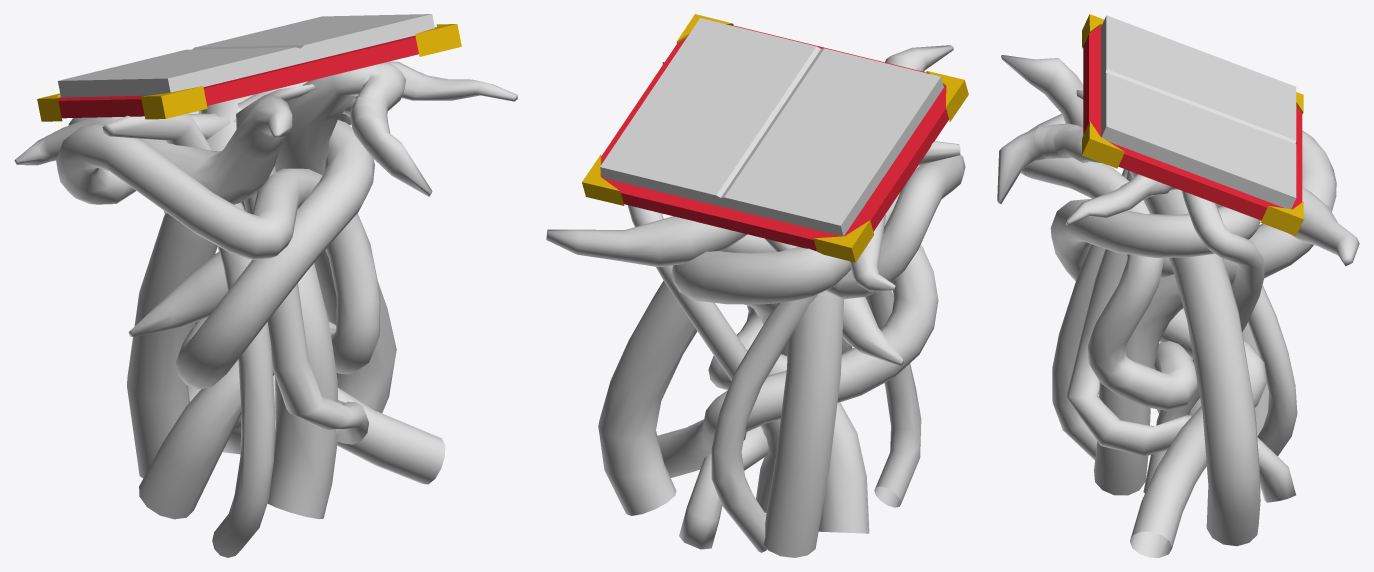
The model's file is enchant.fbx.
The picture shows the model from 3 angles, left to right: view 1: azimuth 30°, elevation 25°; view 2: azimuth 150°, elevation 25°; view 3: azimuth 270°, elevation 25°; orthographic projection. The views are drawn at different scales.
Parts seen in each view (by area): view 1: BézierCurve.003, Cube.008, Cube.005, Cube.007, Cube.006; view 2: BézierCurve.003, Cube.008, Cube.005, Cube.007, Cube.006; view 3: BézierCurve.003, Cube.008, Cube.005, Cube.006, Cube.007.
Boxes of the visible parts, x1,y1,x2,y2 form: BézierCurve.003: [14, 61, 517, 557]; Cube.008: [58, 14, 434, 97]; Cube.005: [58, 27, 436, 118]; Cube.007: [37, 86, 207, 121]; Cube.006: [415, 24, 461, 56]; BézierCurve.003: [546, 45, 965, 557]; Cube.008: [600, 18, 943, 236]; Cube.005: [601, 25, 948, 251]; Cube.007: [813, 71, 968, 262]; Cube.006: [582, 14, 733, 205]; BézierCurve.003: [997, 55, 1359, 557]; Cube.008: [1101, 15, 1296, 208]; Cube.005: [1083, 26, 1302, 220]; Cube.006: [1082, 121, 1303, 235]; Cube.007: [1082, 14, 1303, 114].
Size of the model in its own units: 6.36 by 7.91 by 6.12.
